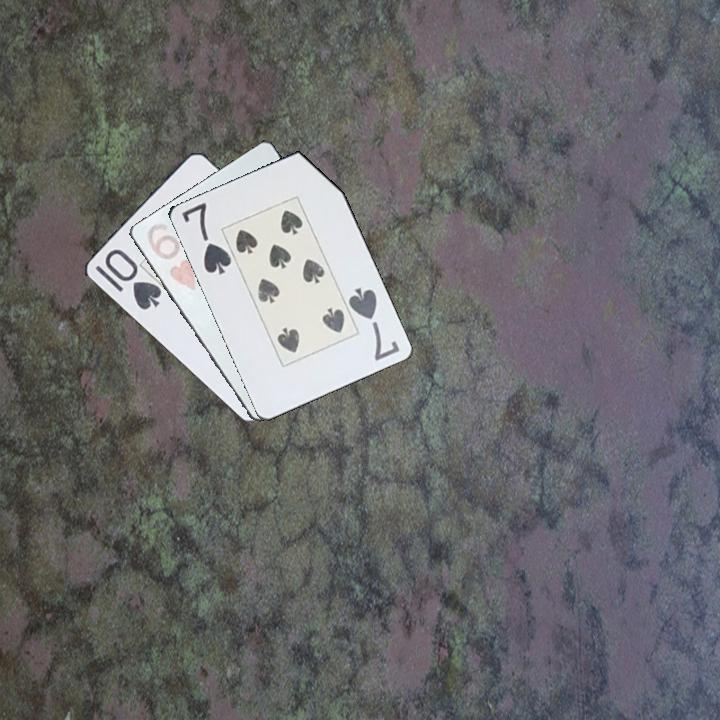6h: (139, 219, 199, 296)
7s: (344, 283, 402, 364), (178, 199, 234, 278)
Ts: (91, 245, 164, 313)
